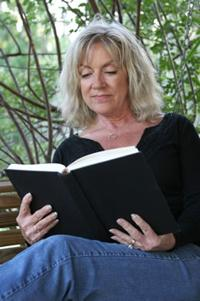person: (1, 19, 200, 300)
